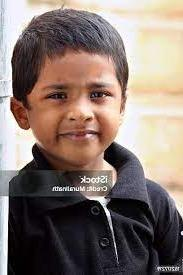Human: (8, 5, 178, 270)
